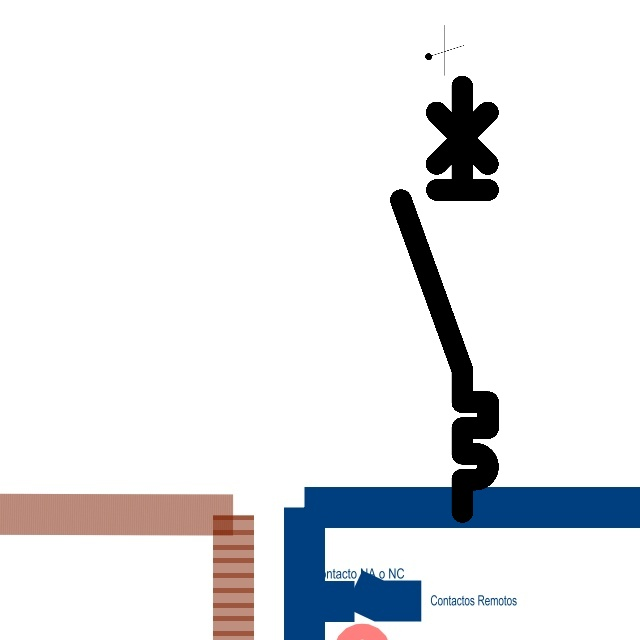interruptor_termomagnetico: (390, 75, 499, 523)
